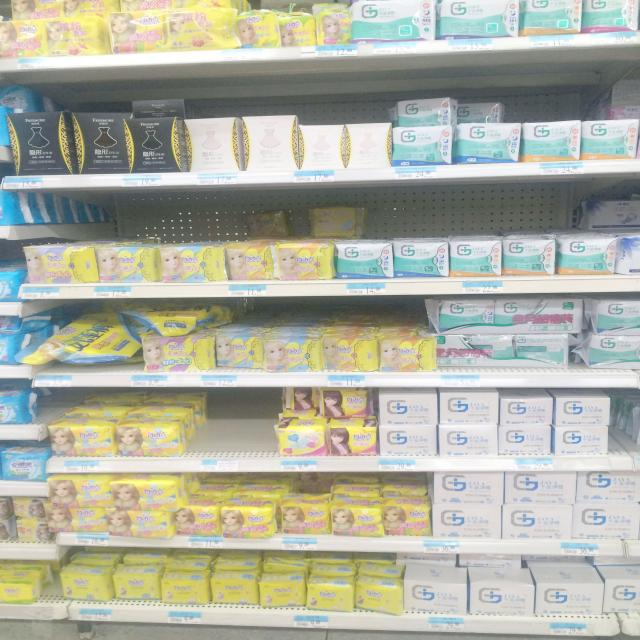empty_space: (208, 395, 272, 453), (617, 396, 637, 452)
